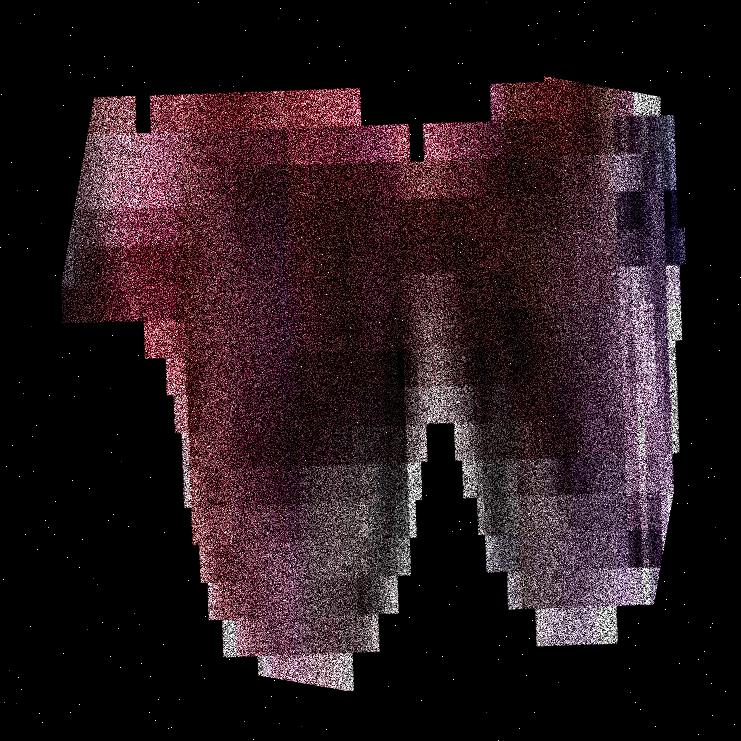Oculos: (452, 0, 740, 740)
